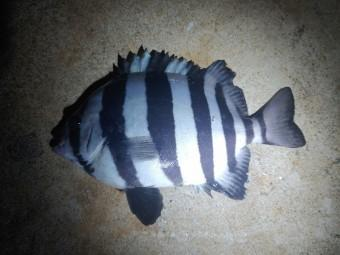fish: (52, 46, 307, 223)
